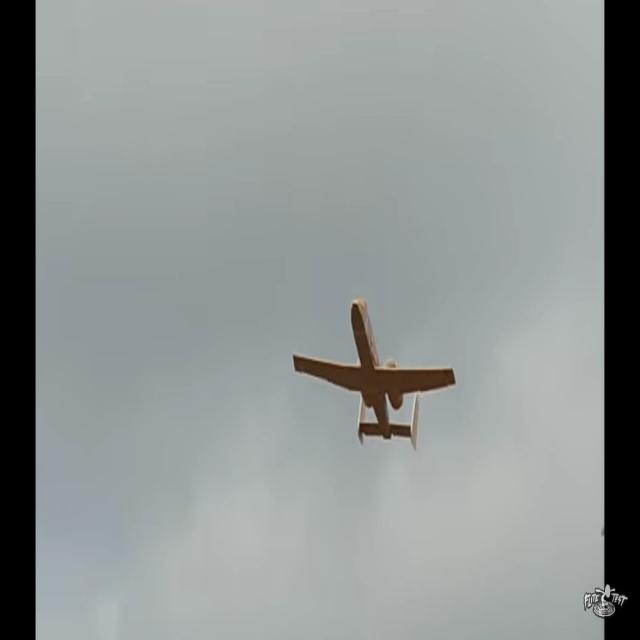iha: (292, 295, 457, 454)
